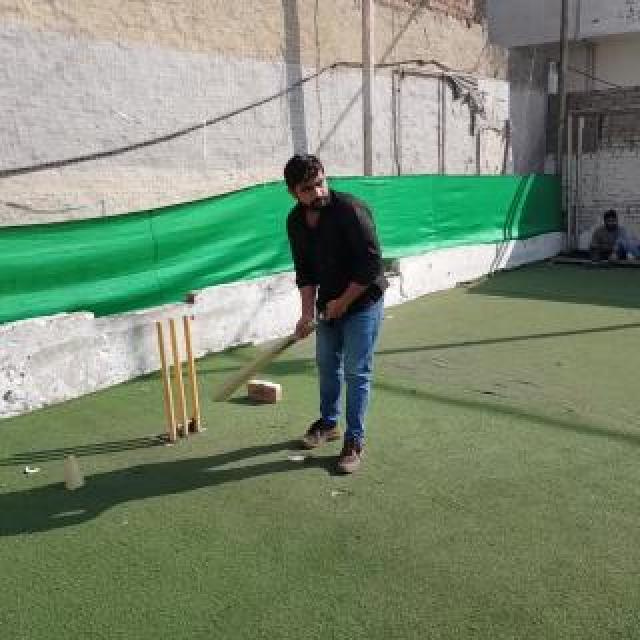bat: (212, 312, 328, 402)
